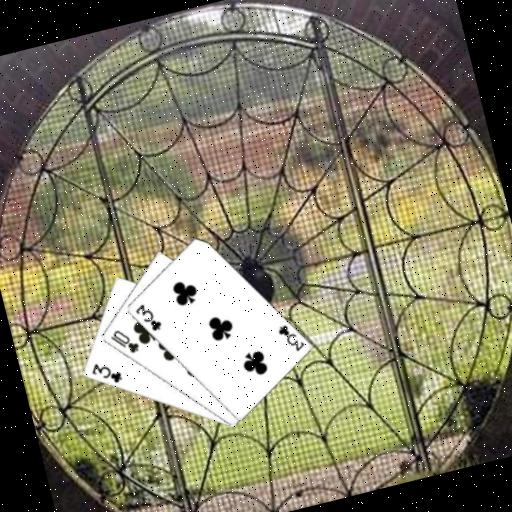10C: (105, 322, 142, 360)
3C: (87, 355, 125, 391), (131, 297, 165, 337), (273, 318, 307, 357)
